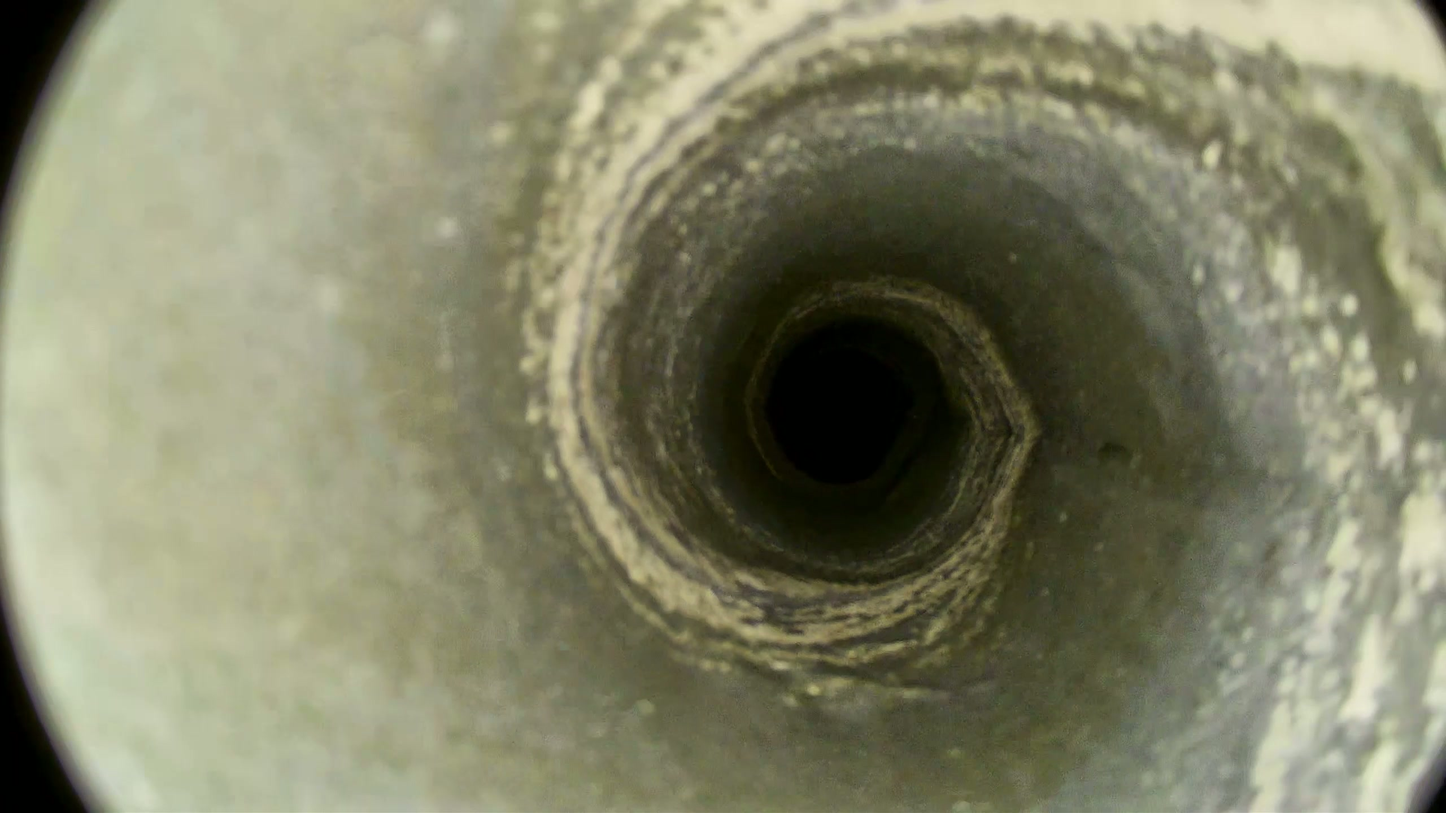hole: (774, 349, 909, 483)
